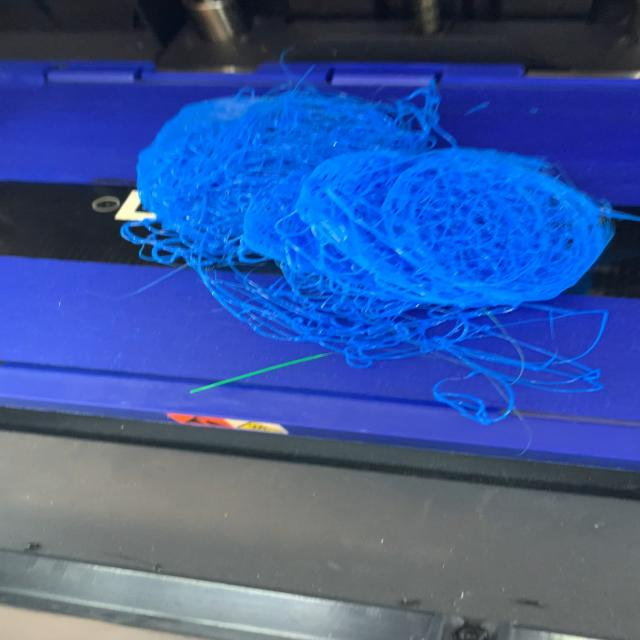spaghetti: (119, 51, 621, 452)
